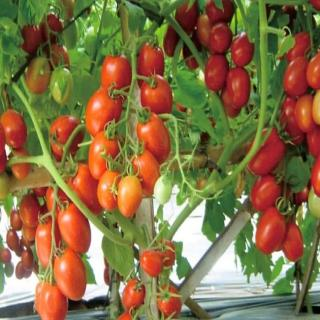Tomat: (137, 112, 171, 165), (54, 249, 88, 302), (256, 207, 287, 256), (35, 281, 69, 320), (1, 109, 28, 149), (118, 175, 143, 218), (157, 284, 183, 320), (122, 278, 146, 311), (141, 250, 163, 278)
